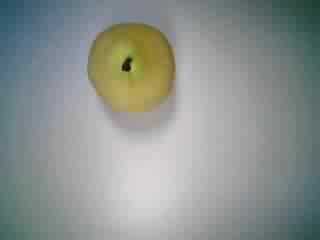pear: (76, 11, 180, 119)
